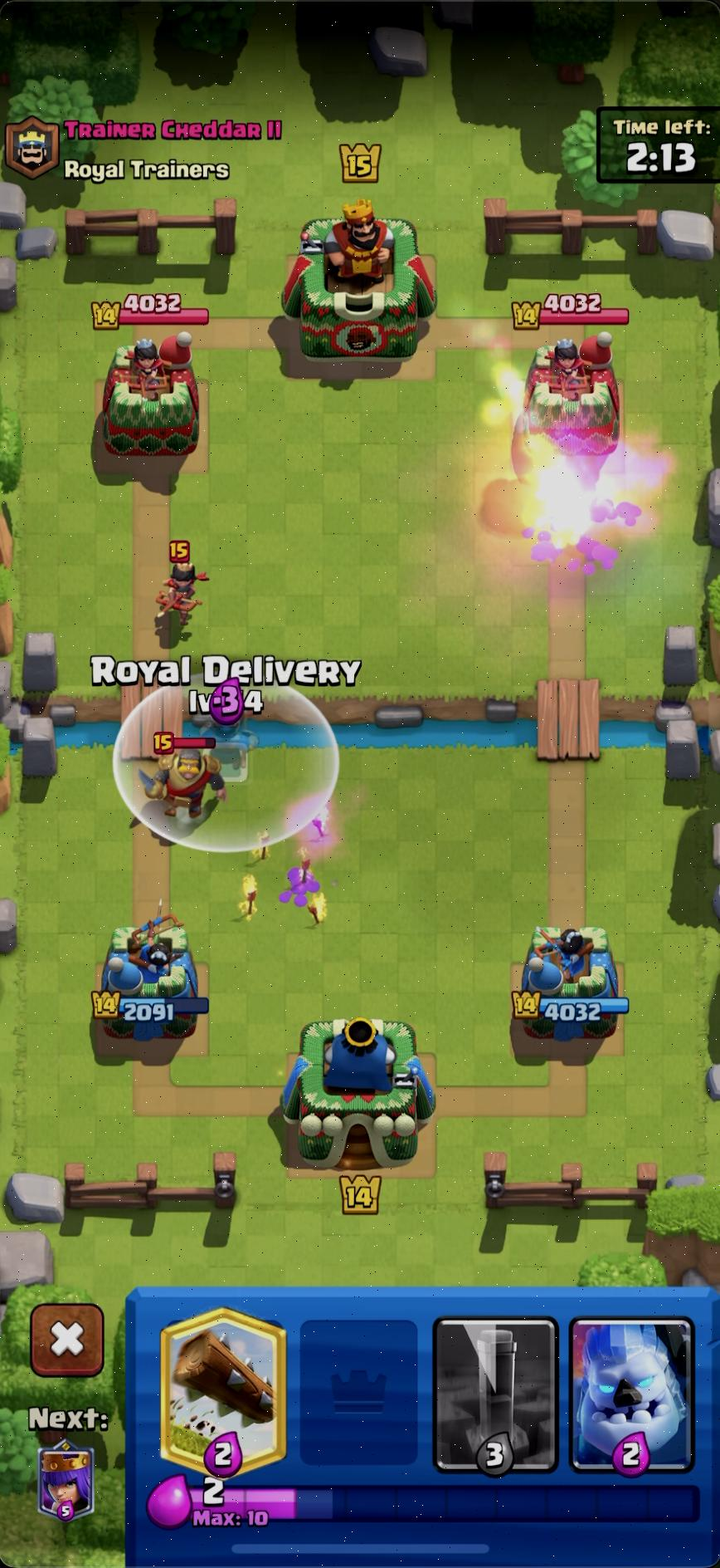card_archerqueen: (34, 1436, 97, 1524)
card_earthquake: (436, 1311, 560, 1479)
card_icegolem: (566, 1312, 695, 1477)
card_log: (154, 1305, 292, 1481)
